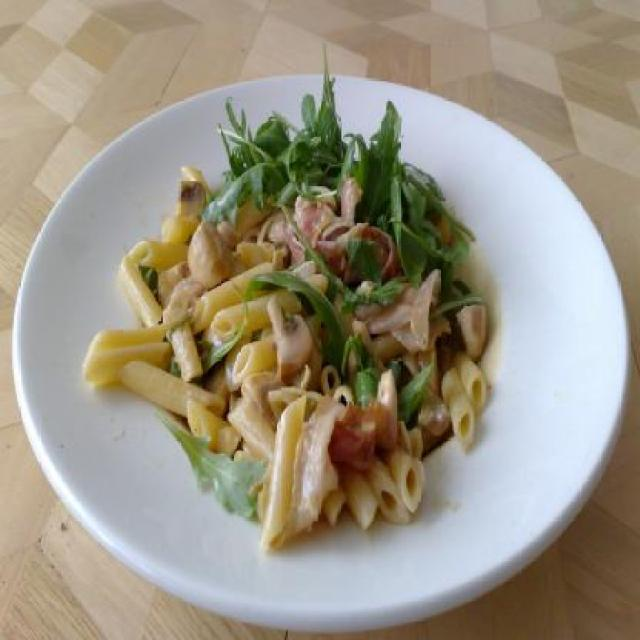Salad: (82, 43, 495, 572)
